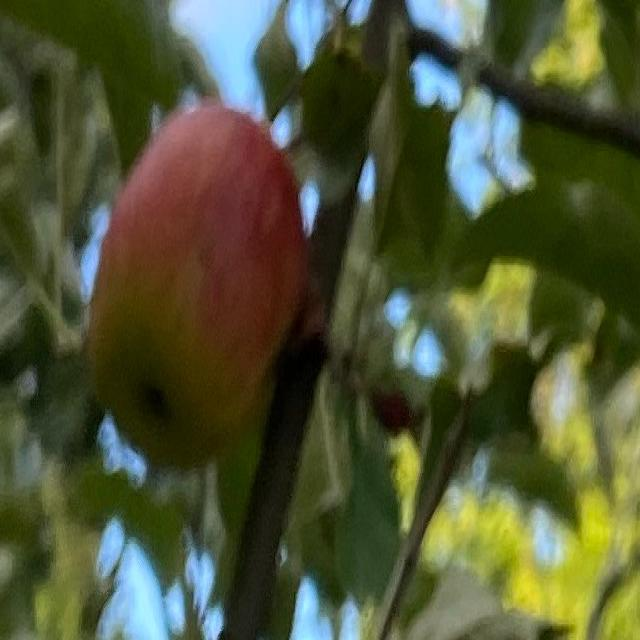Apples: (91, 98, 305, 469)
